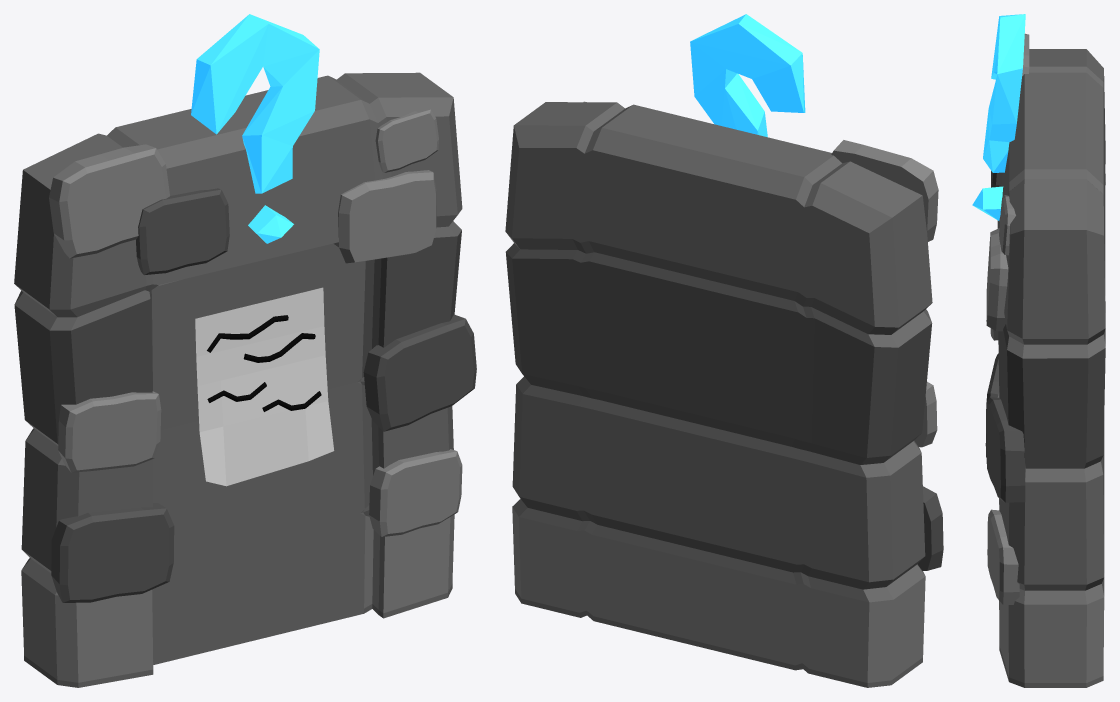
The model's file is QuestionWall.fbx.
3 views of the same model, side by side, from view 1: azimuth 30°, elevation 25°; view 2: azimuth 150°, elevation 25°; view 3: azimuth 270°, elevation 25° (orthographic). The views are drawn at different scales.
Parts seen in each view (by area): view 1: QuestionWall; view 2: QuestionWall; view 3: QuestionWall.
Boxes of the visible parts, x1,y1,x2,y2 form: QuestionWall: [14, 14, 476, 687]; QuestionWall: [505, 14, 943, 687]; QuestionWall: [972, 14, 1105, 687].
Size of the model in its own units: 223 by 317 by 65.99.
